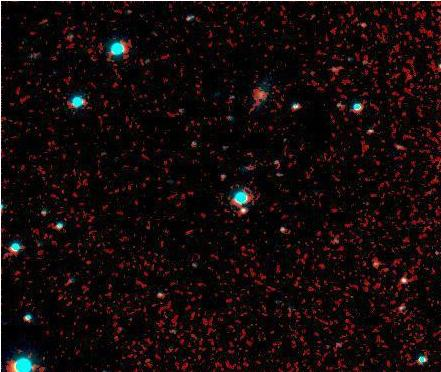star: (378, 134, 408, 164)
